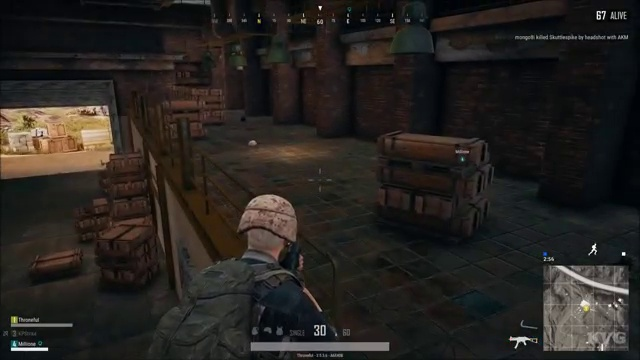Player: (180, 187, 356, 310)
